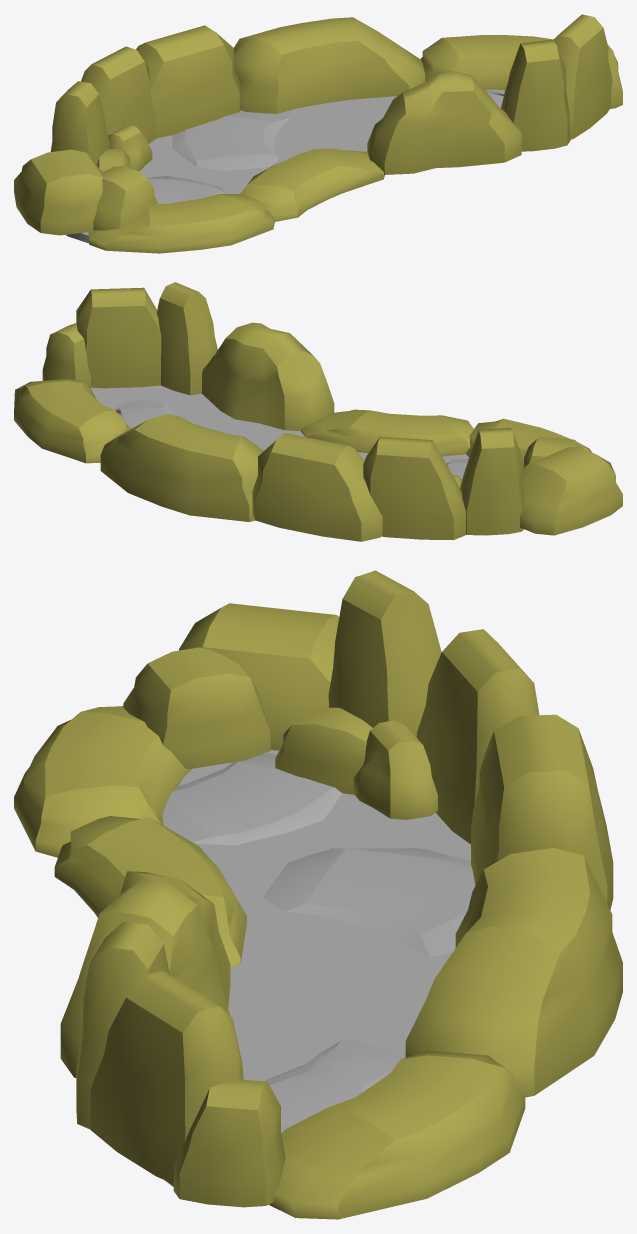
File: hot spring e3.fbx
The picture shows the model from 3 angles, top to bottom: view 1: azimuth 30°, elevation 25°; view 2: azimuth 150°, elevation 25°; view 3: azimuth 270°, elevation 25°; orthographic projection. The views are drawn at different scales.
Parts seen in each view (by area): view 1: hot_springs_rocks27; view 2: hot_springs_rocks27; view 3: hot_springs_rocks27.
Part boxes in pixels (<box>): hot_springs_rocks27: <box>14,14,622,253</box>; hot_springs_rocks27: <box>14,282,622,541</box>; hot_springs_rocks27: <box>14,570,622,1219</box>.
Bounding box in the file's own units: 17.52 × 2.84 × 8.49.
